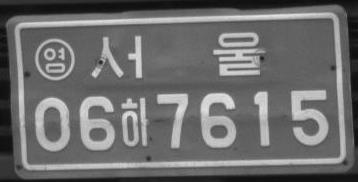0: (32, 96, 72, 152)
1: (244, 89, 280, 147)
5: (289, 89, 330, 147)
6: (199, 90, 237, 149), (78, 95, 115, 152)
7: (155, 91, 190, 149)
서울_D: (87, 30, 266, 78)
영: (33, 36, 76, 81)
하: (120, 96, 151, 148)
